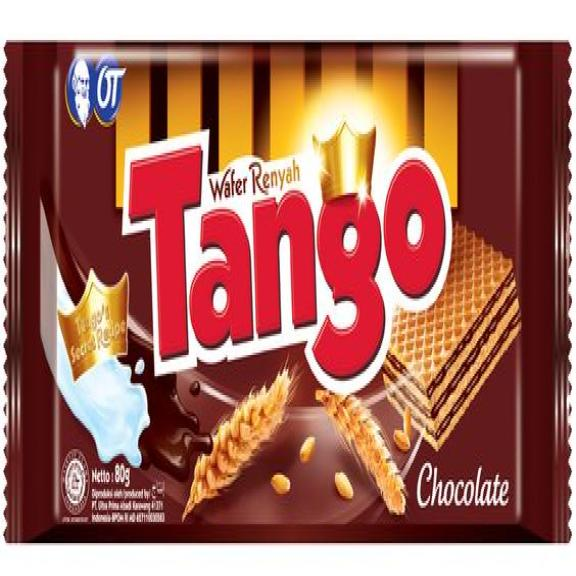Plastik: (5, 40, 571, 544)
